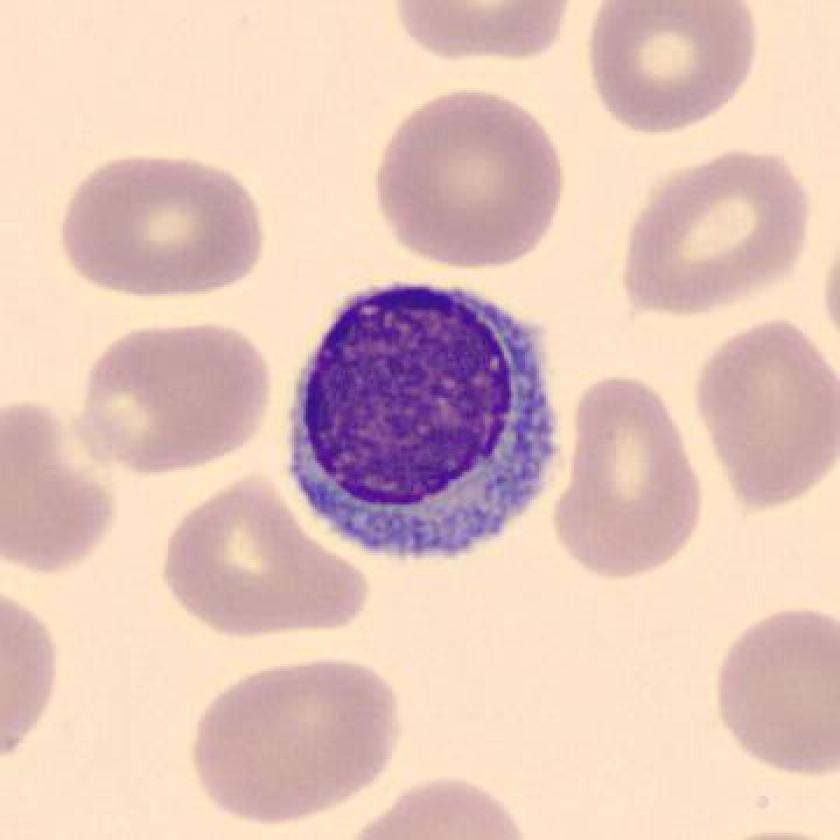lymphocyte: (269, 274, 587, 584)
